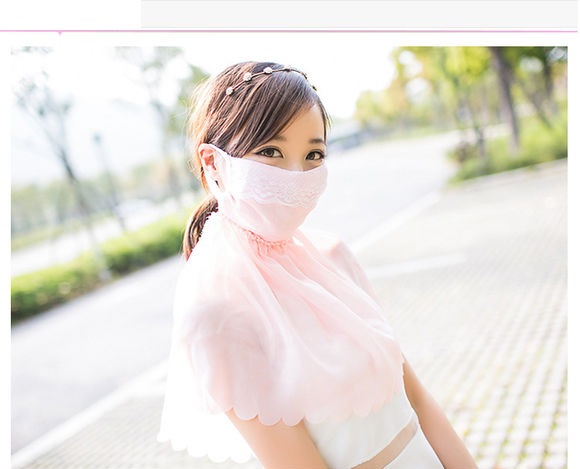face_mask: (230, 100, 328, 239)
